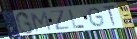G: (14, 11, 35, 35), (87, 6, 106, 28)
L: (68, 9, 87, 29)
M: (30, 11, 53, 33)
T: (102, 4, 117, 28)
Z: (49, 9, 72, 31)
